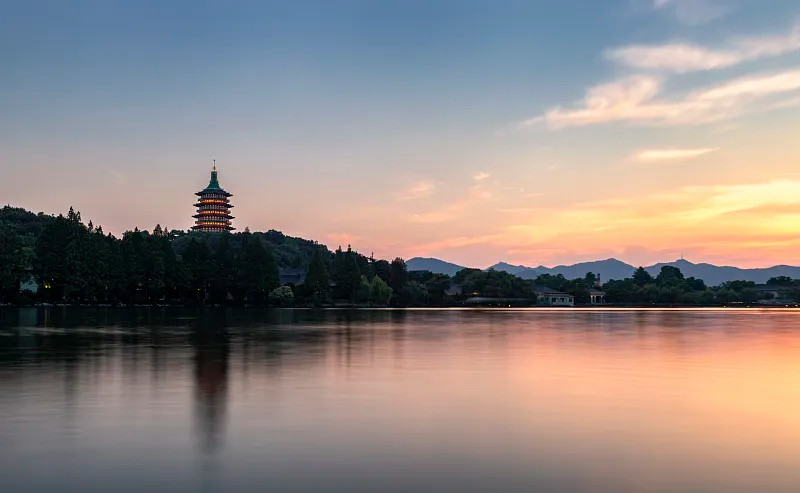Leifeng: (188, 158, 236, 237)
